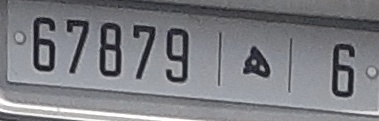6: (329, 41, 358, 100), (31, 16, 57, 73)
7: (131, 23, 157, 82), (64, 17, 89, 75)
8: (97, 21, 124, 79)
9: (164, 26, 190, 84)
h: (240, 45, 272, 80)
